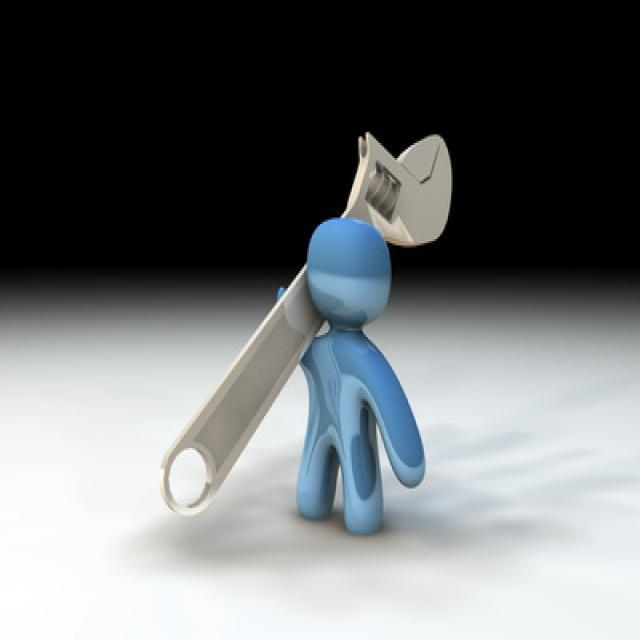wrench: (158, 127, 458, 518)
